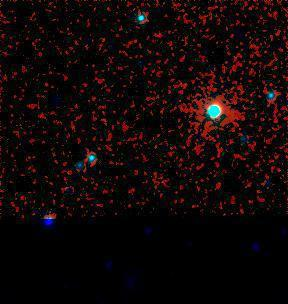star: (229, 123, 259, 153)
